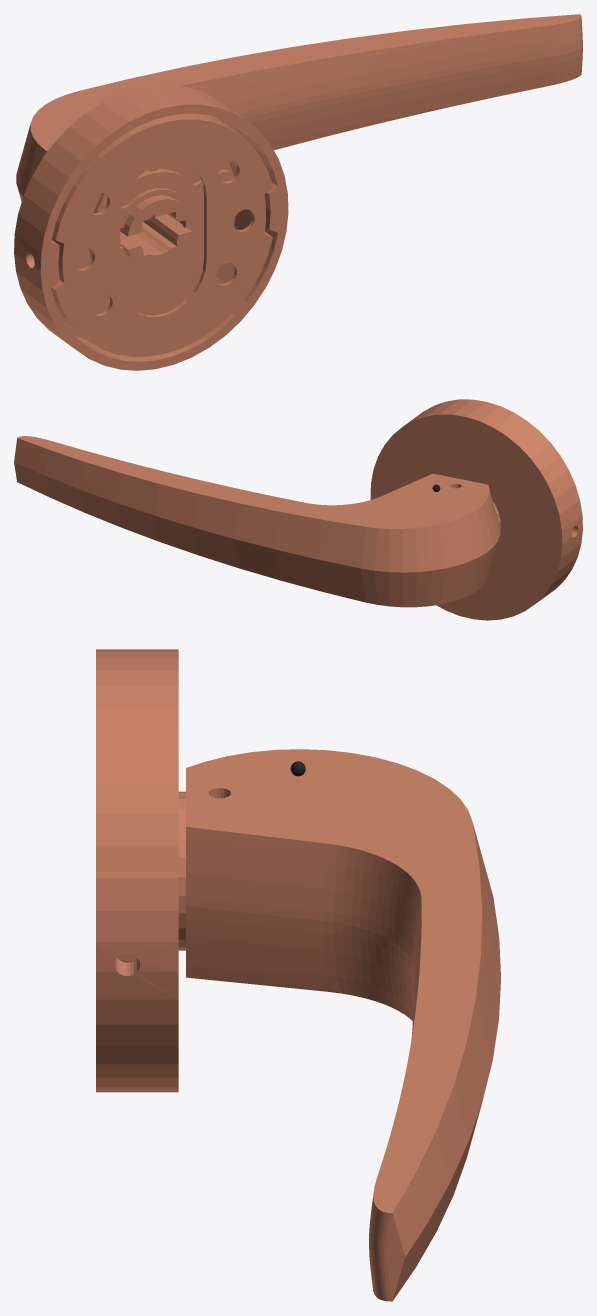
The model's file is narvi pvd r gold.glb.
3 views of the same model, one above another, from view 1: azimuth 30°, elevation 25°; view 2: azimuth 150°, elevation 25°; view 3: azimuth 270°, elevation 25° (orthographic). The views are drawn at different scales.
Visible parts, largest first — view 1: narvi; view 2: narvi; view 3: narvi.
Part boxes in pixels (x1,y1,x2,y2): narvi: (14, 14, 582, 370); narvi: (14, 399, 582, 620); narvi: (96, 649, 500, 1301).
Bounding box in the file's own units: 0.9807 × 0.3823 × 0.35.
